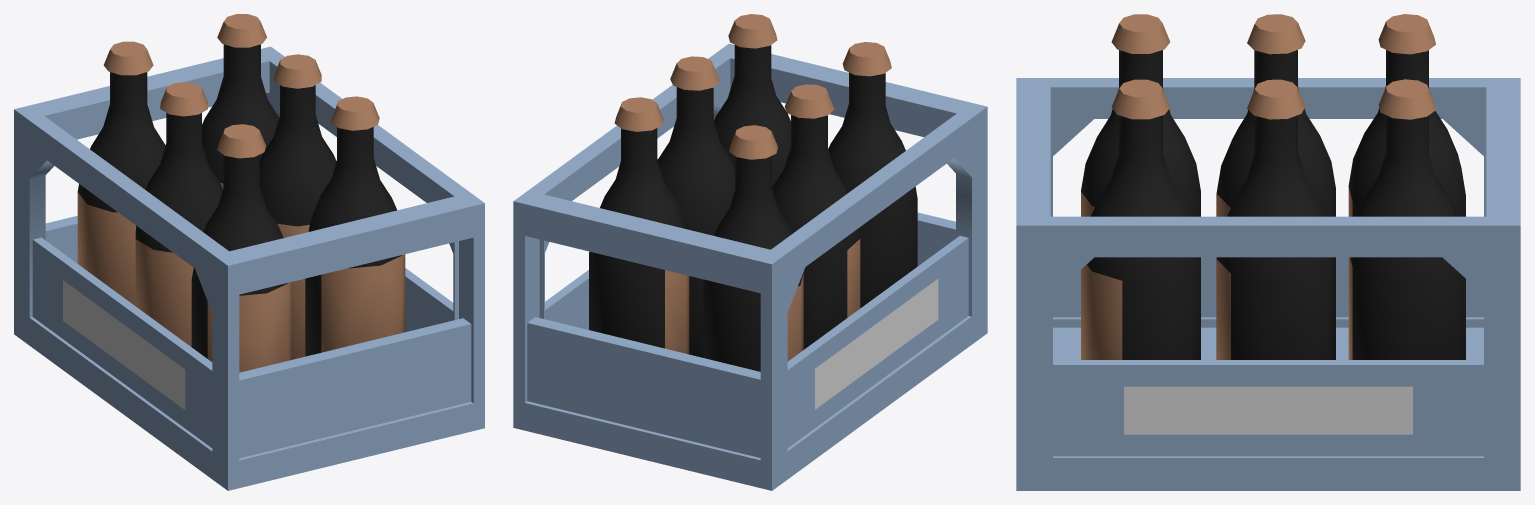
The model's file is quaternius-sushi-restaurant-environment-bottles.glb.
3 renders of one model, left to right at view 1: azimuth 30°, elevation 25°; view 2: azimuth 150°, elevation 25°; view 3: azimuth 270°, elevation 25°, orthographic. The views are drawn at different scales.
Visible parts, largest first — view 1: Environment_Bottles; view 2: Environment_Bottles; view 3: Environment_Bottles.
Boxes of the visible parts, x1,y1,x2,y2 form: Environment_Bottles: (14,14,484,490); Environment_Bottles: (513,14,987,490); Environment_Bottles: (1016,14,1520,490).
Size of the model in its own units: 0.9031 by 1.02 by 1.3.
1 material, 1 textured.
